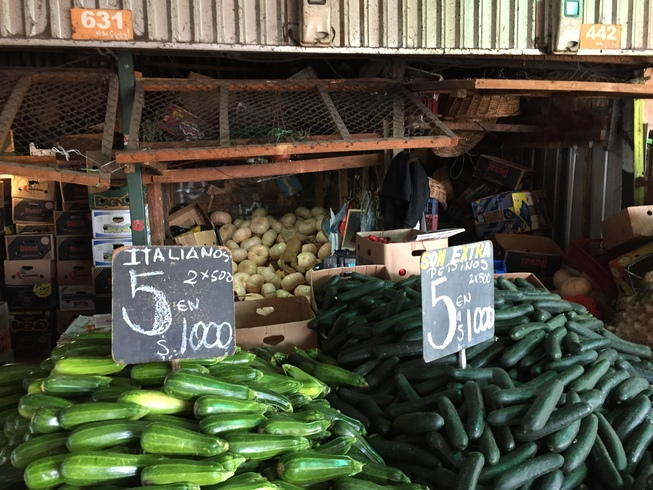precio: (108, 246, 231, 371), (416, 242, 507, 364)
